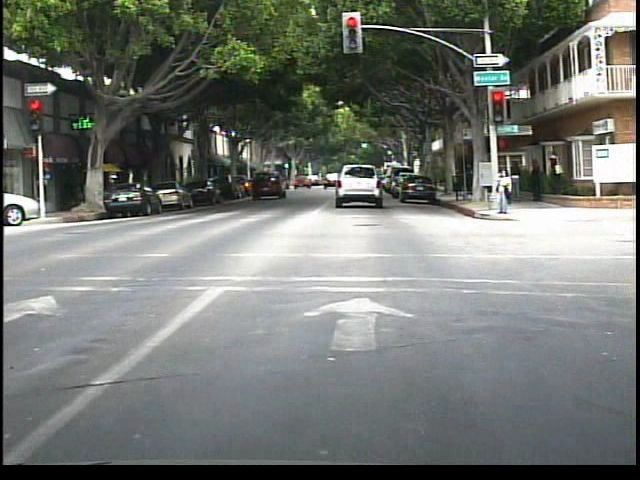person: (490, 167, 514, 218), (526, 156, 545, 206), (546, 149, 565, 195), (508, 158, 525, 204)
